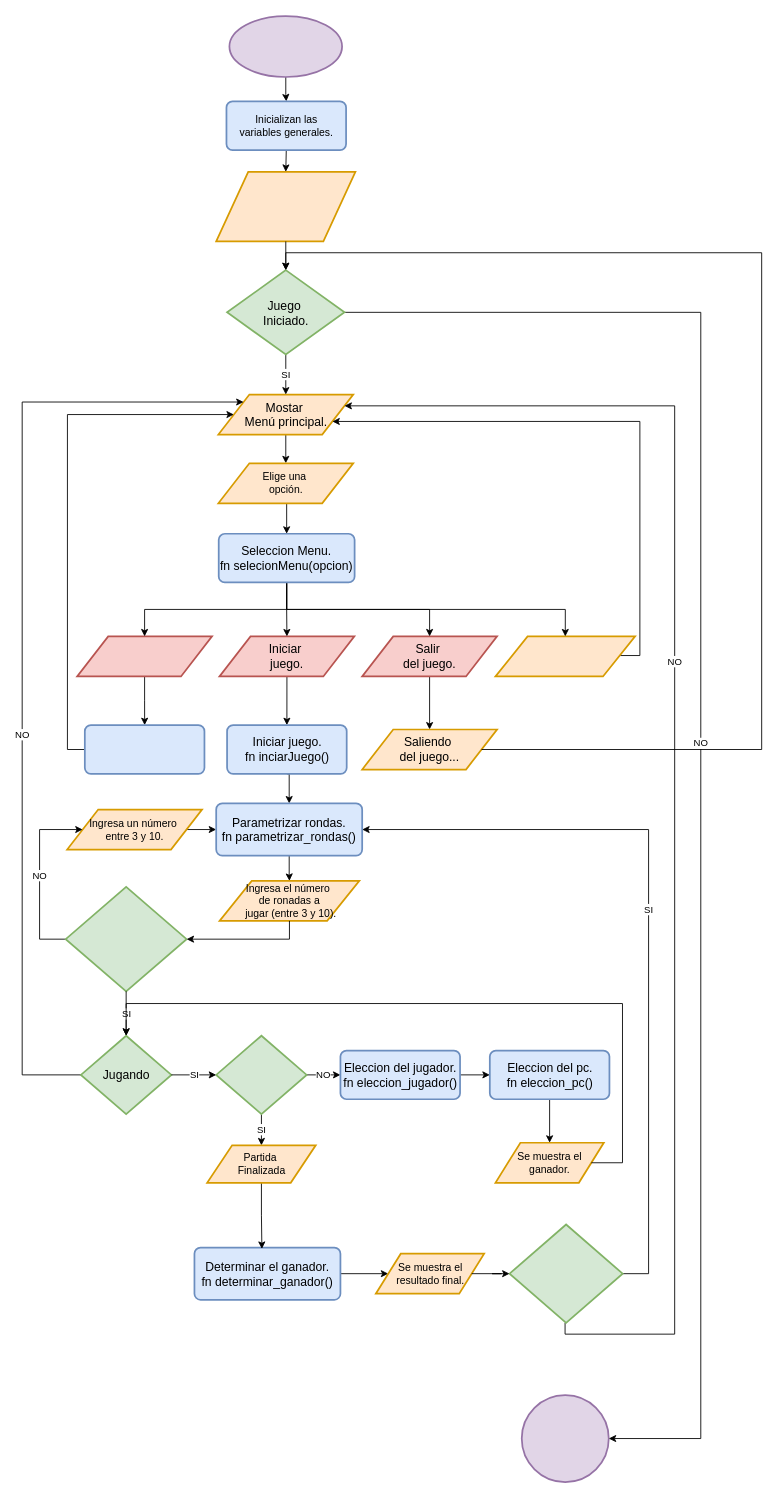
Some shapes in this 784 by 1497 pixel diagram are drawn without their labels. Here are the shapes that lost their labels. From the top down, the box of each, then its label:
(228, 15, 343, 77): Inicio
(215, 171, 356, 242): Mostar mensaje de bienvenida.
(76, 635, 212, 677): Ver reglas del juego.
(494, 635, 636, 677): Opción no válida. Intenta nuevamente.
(84, 724, 205, 774): Mostrar reglas juego. fn mostrarReglas()
(64, 886, 187, 992): Si el número es >=3 y número =<10
(215, 1034, 307, 1114): si numero de rondas = 0
(508, 1223, 623, 1323): Quieres volver a jugar?
(520, 1394, 609, 1482): Fin
